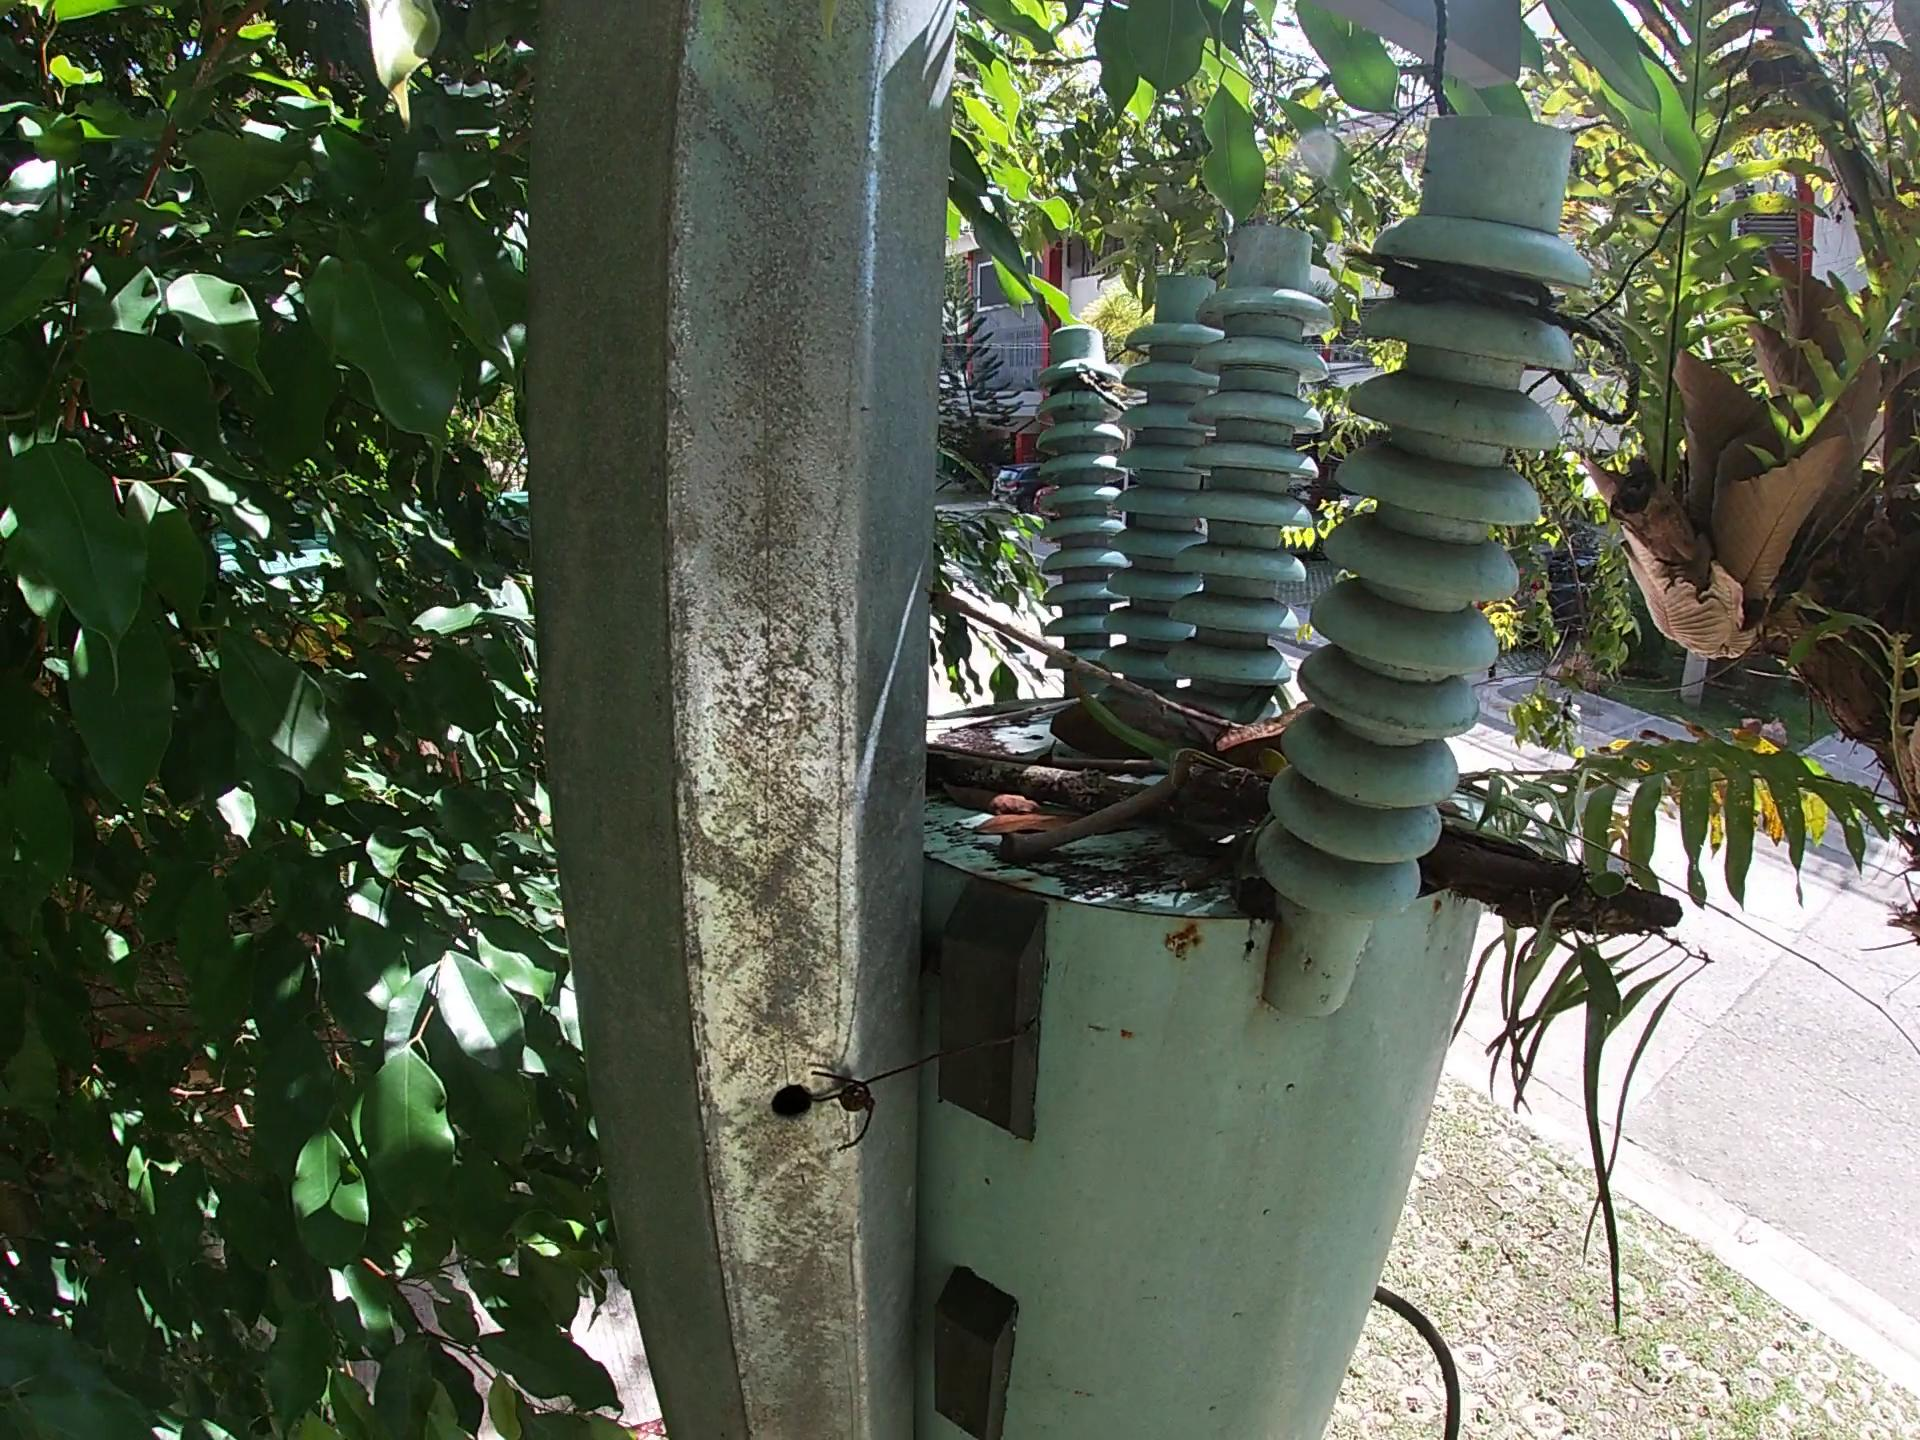branch with leaves: (906, 715, 1814, 1085)
leaf: (981, 749, 1051, 897)
mahogany fruit: (971, 591, 1070, 664)
tree branch: (957, 573, 1872, 1009), (1017, 787, 1214, 849), (924, 691, 1095, 717)
